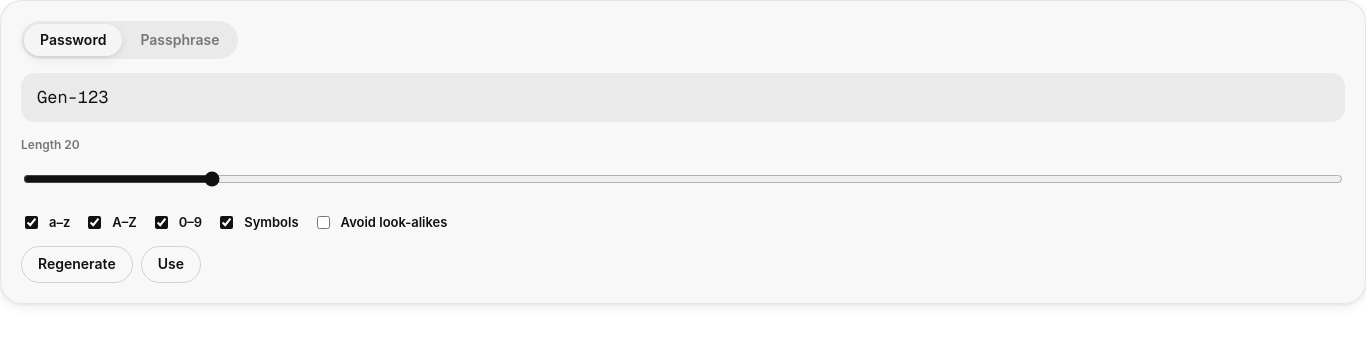
Test case: a failed generation disables Use
Expected: the text "Gen-123" is shown, [21, 73, 1345, 122]
Click the button "Regenerate" at (77, 264), box [21, 246, 133, 283]
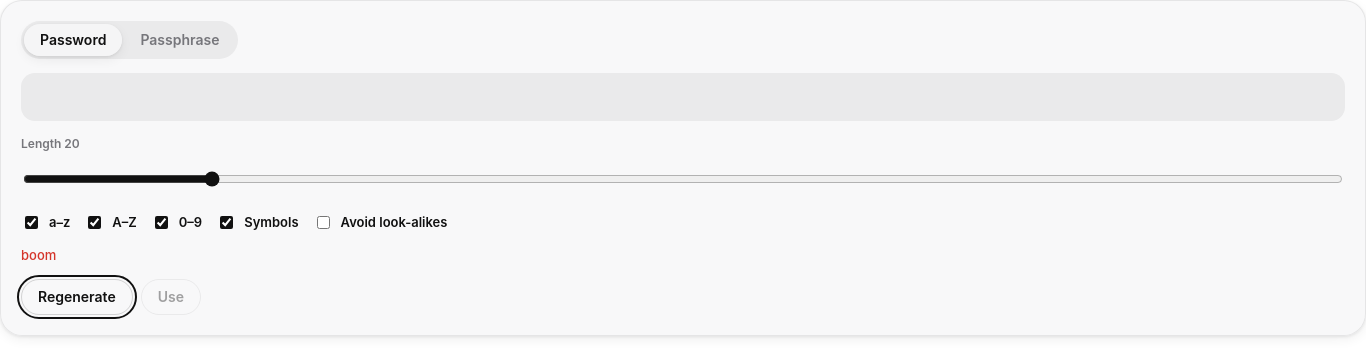
Now the text "boom" is shown, box [21, 247, 56, 263]
Now the button "Use" is disabled, box [141, 278, 201, 315]
